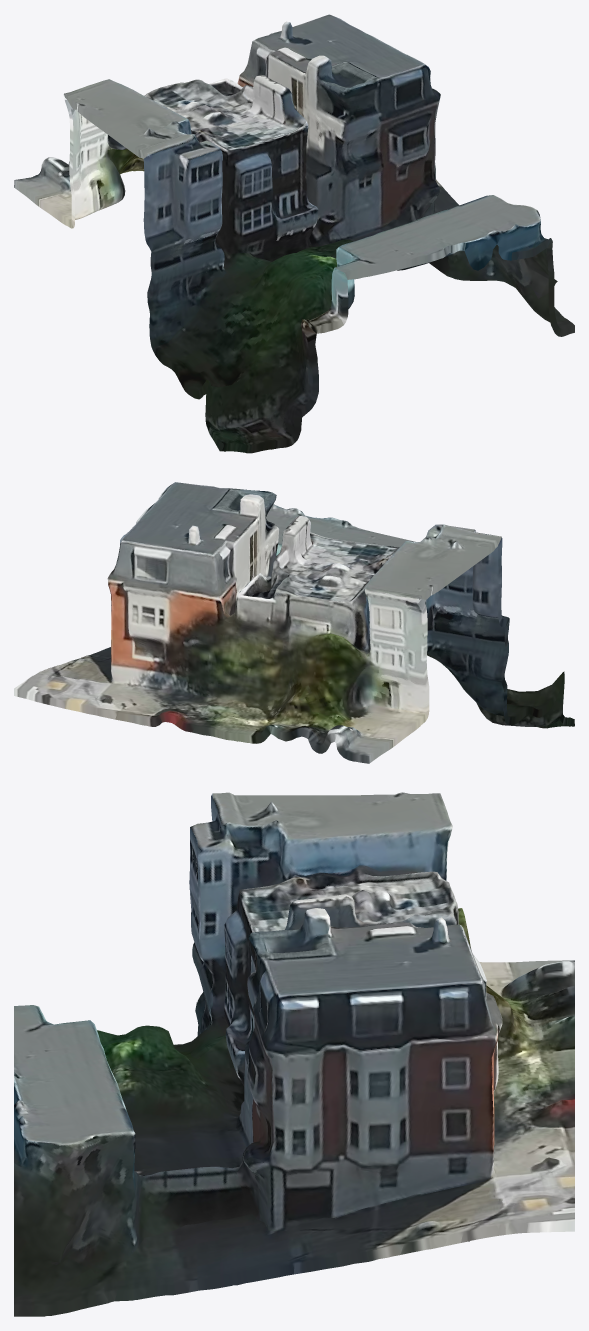
The model's file is z20-167720-405196-h0-yup-uvflip-v3-world.glb.
3 renders of one model, top to bottom at view 1: azimuth 30°, elevation 25°; view 2: azimuth 150°, elevation 25°; view 3: azimuth 270°, elevation 25°, orthographic. The views are drawn at different scales.
Size of the model in its own units: 30.2 by 22.12 by 30.32.
1 material, 1 textured.
